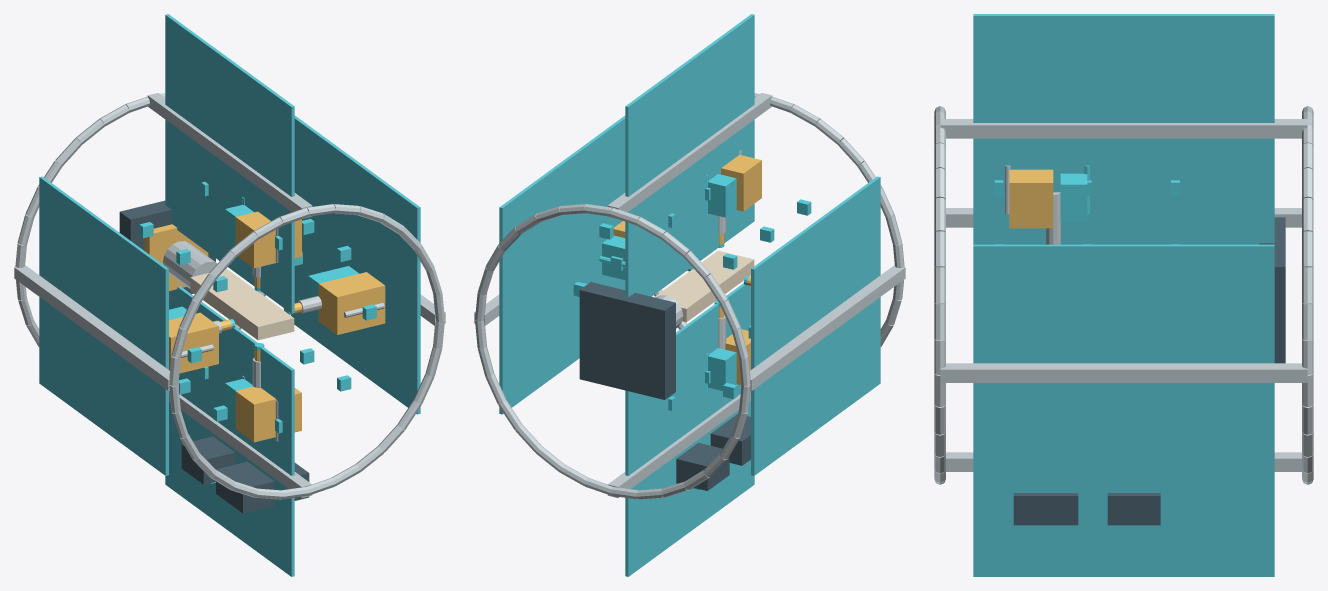
File: MIST-PAIR-test-rig.glb
3 renders of one model, left to right at view 1: azimuth 30°, elevation 25°; view 2: azimuth 150°, elevation 25°; view 3: azimuth 270°, elevation 25°, orthographic. The views are drawn at different scales.
Parts seen in each view (by area): view 1: wall, frame, gas, water, dark, sample; view 2: wall, frame, dark, water, sample, gas; view 3: wall, frame, dark, gas, water.
Part boxes in pixels (x1,y1,x2,y2): wall: (39, 14, 420, 576); frame: (14, 93, 445, 499); gas: (144, 211, 385, 442); water: (139, 181, 376, 483); dark: (119, 200, 309, 513); sample: (190, 268, 294, 340); wall: (499, 14, 880, 576); frame: (474, 93, 905, 499); dark: (579, 282, 750, 490); water: (573, 174, 811, 489); sample: (654, 250, 754, 322); gas: (613, 155, 761, 384); wall: (973, 14, 1274, 576); frame: (934, 106, 1313, 484); dark: (1013, 217, 1285, 525); gas: (1009, 169, 1053, 228); water: (994, 165, 1179, 244).
Bounding box in the file's own units: 0.26 × 0.421 × 0.258.
